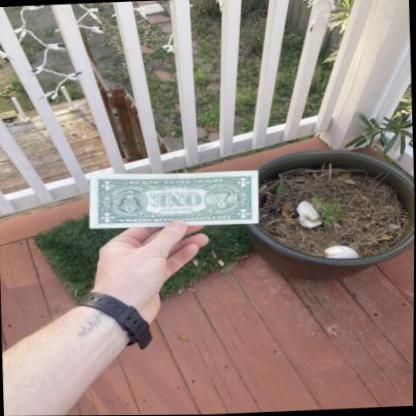one-back: (89, 167, 260, 230)
